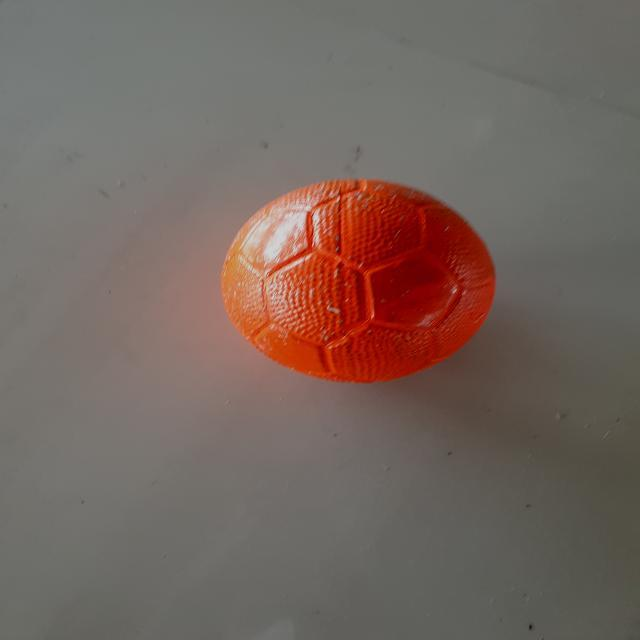bola: (205, 162, 516, 400)
